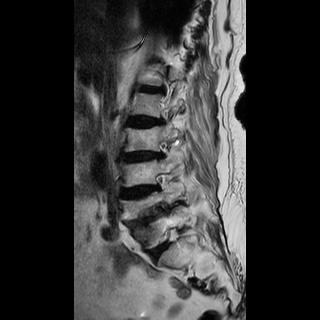RFS0: (152, 137, 176, 165), (148, 167, 171, 195)
